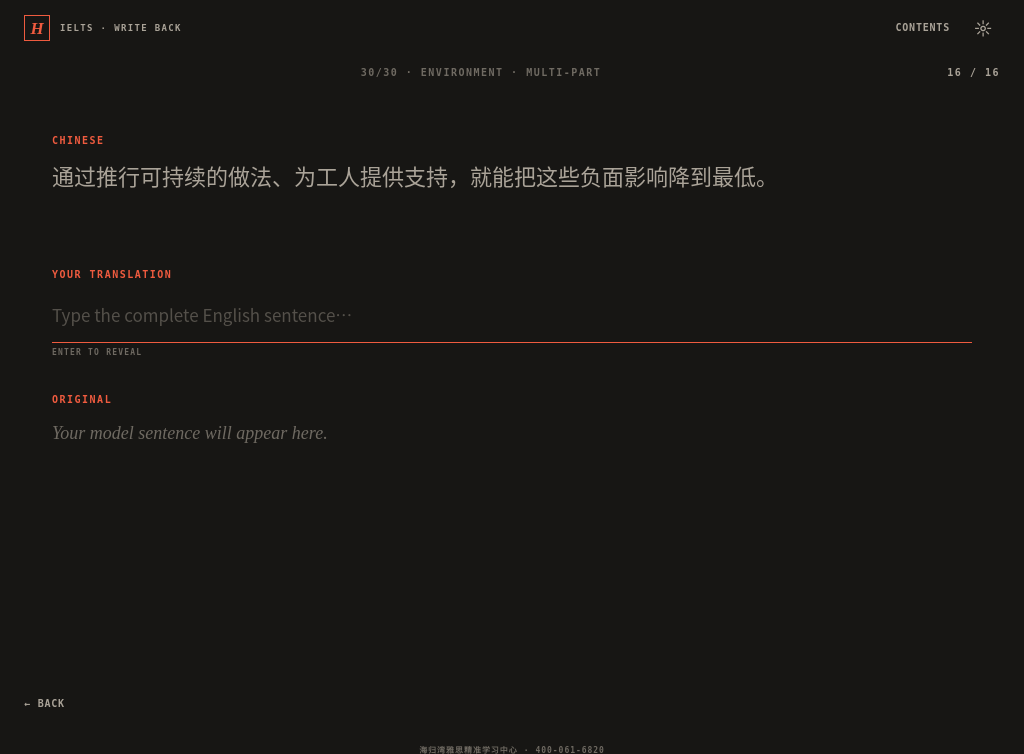
it: translation practice flow › marks the course complete at the exact final source sentence
Expected: the text "通过推行可持续的做法、为工人提供支持，就能把这些负面影响降到最低。" is shown, [52,159,778,191]
Type "By promoting sustainability and supporting workers, its negative impacts can be minimized." into the field labelled "YOUR TRANSLATION" at (512, 317), box [52,291,972,343]
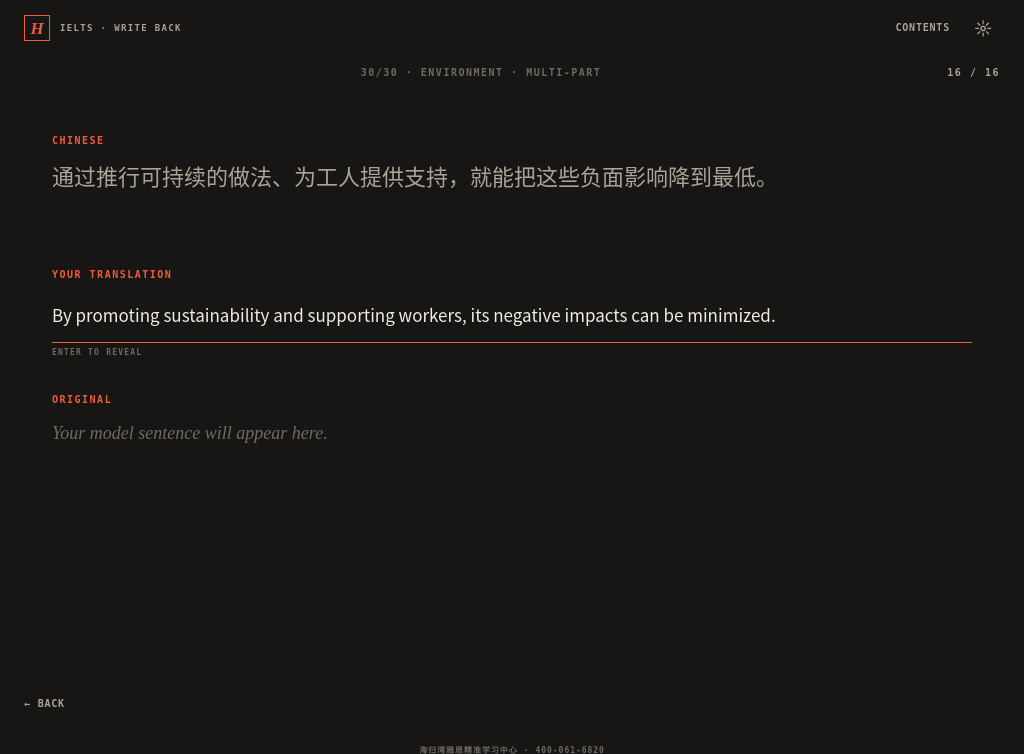
Press Enter in the field labelled "YOUR TRANSLATION", box [52,291,972,343]
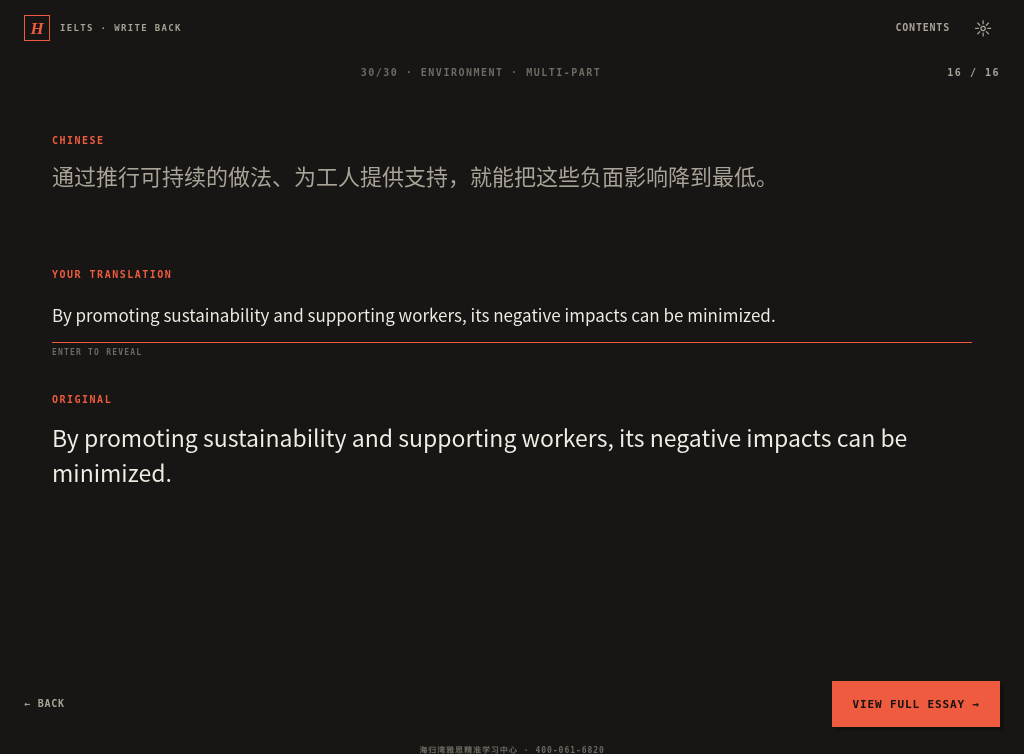
Expected: the text "By promoting sustainability and supporting workers, its negative impacts can be minimized." is shown, [52,420,907,489]
Click the button "VIEW FULL ESSAY →" at (916, 704), box [832,681,1000,727]
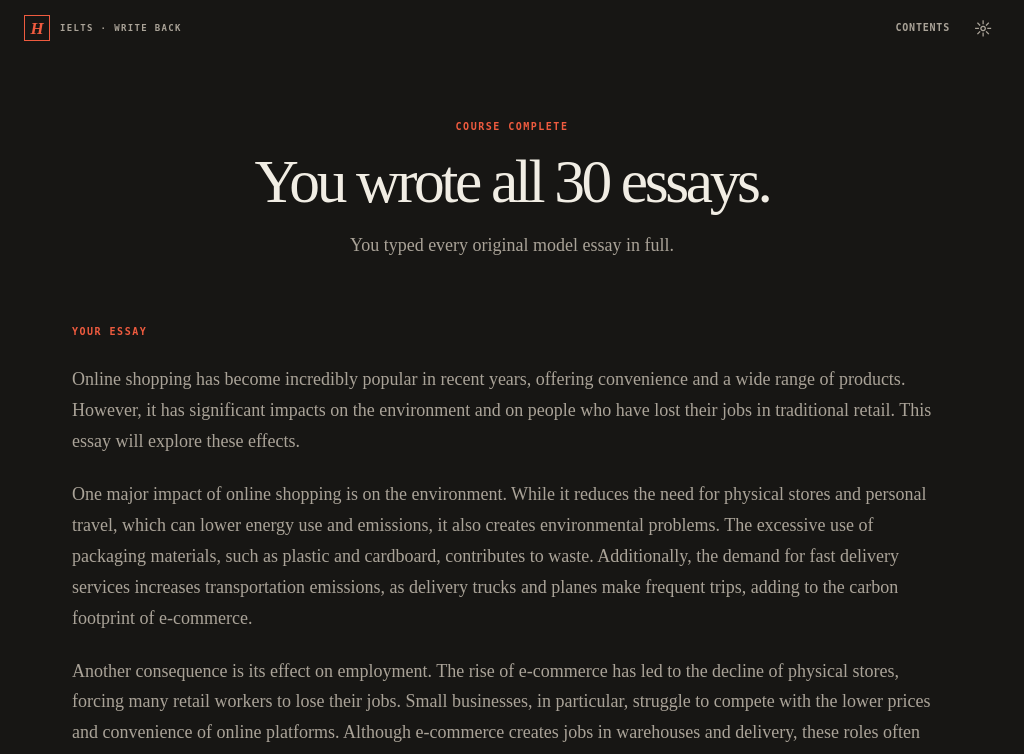
Expected: the heading "You wrote all 30 essays." is shown, [254,147,770,215]
Expected: the text "You typed every original model essay in full." is shown, [350,235,674,255]
